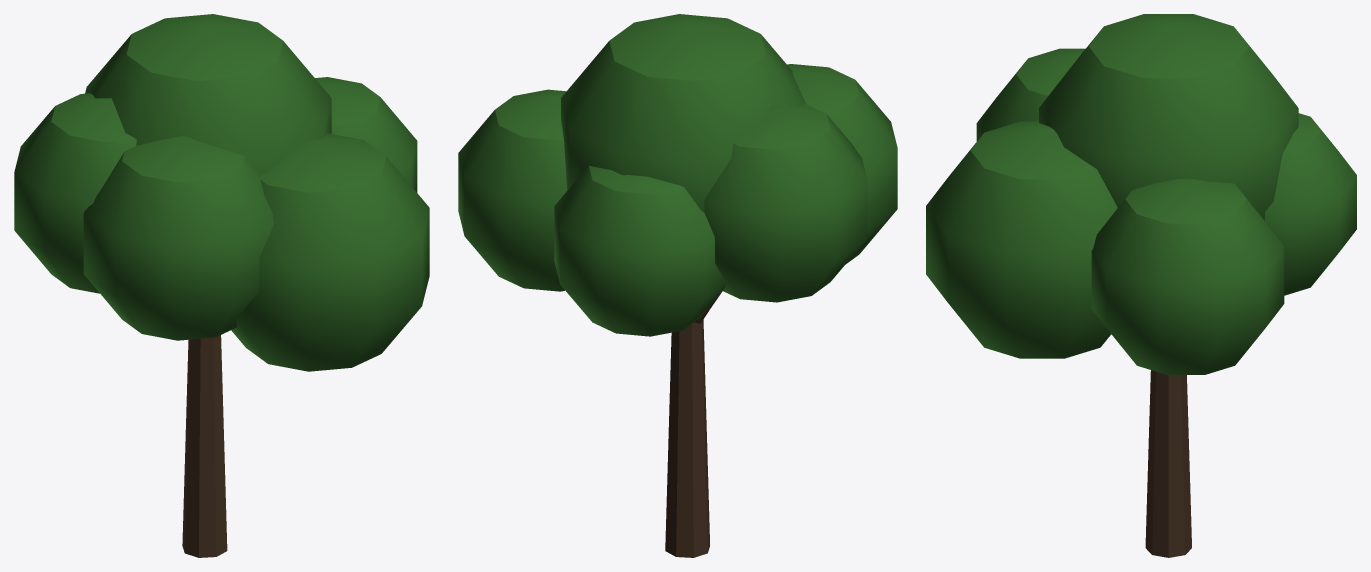
The model's file is landscape.tree.oak_small.glb.
3 renders of one model, left to right at view 1: azimuth 30°, elevation 25°; view 2: azimuth 150°, elevation 25°; view 3: azimuth 270°, elevation 25°, orthographic.
Visible parts, largest first — view 1: main__foliage, main__bark; view 2: main__foliage, main__bark; view 3: main__foliage, main__bark.
Boxes of the visible parts, x1,y1,x2,y2 form: main__foliage: (14,14,429,371); main__bark: (182,335,227,557); main__foliage: (458,14,897,336); main__bark: (665,291,722,557); main__foliage: (926,14,1356,374); main__bark: (1145,370,1191,557).
Bounding box in the file's own units: 3.82 × 5.1 × 3.79.
